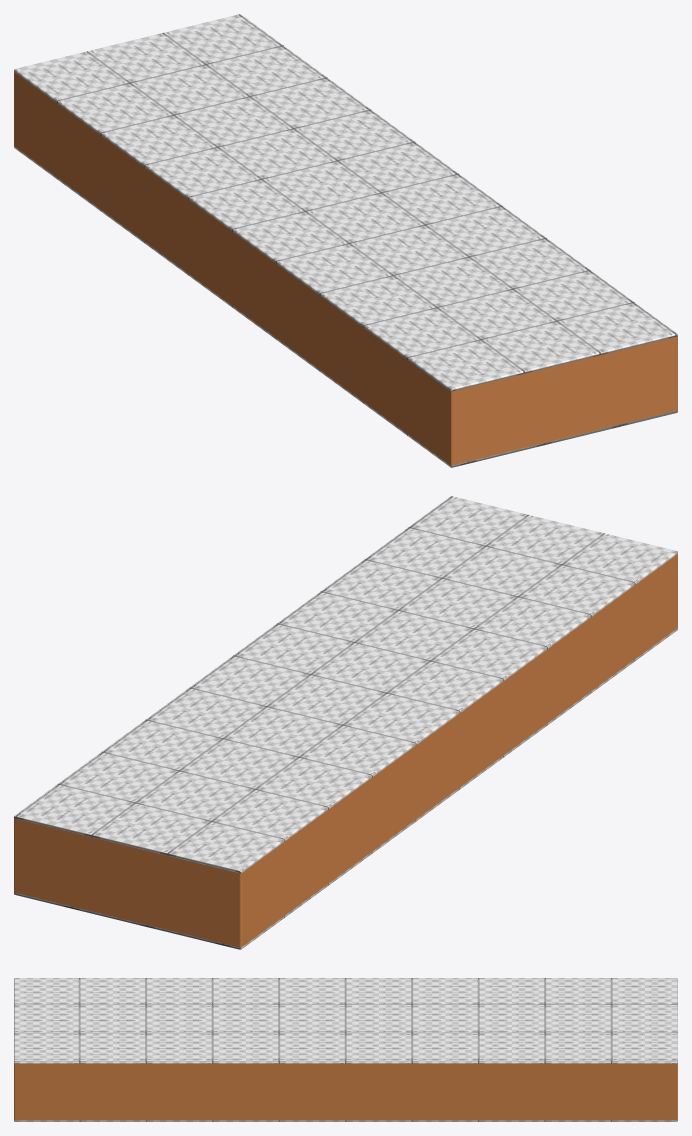
File: [arch] Panel 10x3x1m.fbx
3 views of the same model, one above another, from view 1: azimuth 30°, elevation 25°; view 2: azimuth 150°, elevation 25°; view 3: azimuth 270°, elevation 25° (orthographic). The views are drawn at different scales.
Parts seen in each view (by area): view 1: [arch] Panel 10x3x1m; view 2: [arch] Panel 10x3x1m; view 3: [arch] Panel 10x3x1m.
Boxes of the visible parts, bbox=[...] form: [arch] Panel 10x3x1m: bbox=[14, 14, 677, 467]; [arch] Panel 10x3x1m: bbox=[14, 496, 677, 949]; [arch] Panel 10x3x1m: bbox=[14, 978, 677, 1121].
Size of the model in its own units: 300 by 100 by 1000.
